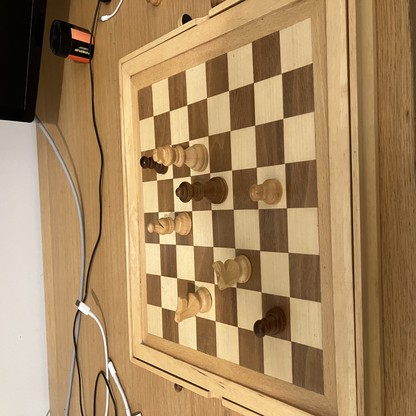bishop_white: (147, 211, 192, 235)
king_white: (153, 145, 207, 170)
knight_white: (214, 255, 251, 289), (175, 289, 212, 322)
pawn_black: (255, 307, 286, 337), (140, 157, 167, 173)
pawn_white: (251, 179, 282, 205)
queen_black: (177, 179, 229, 203)
